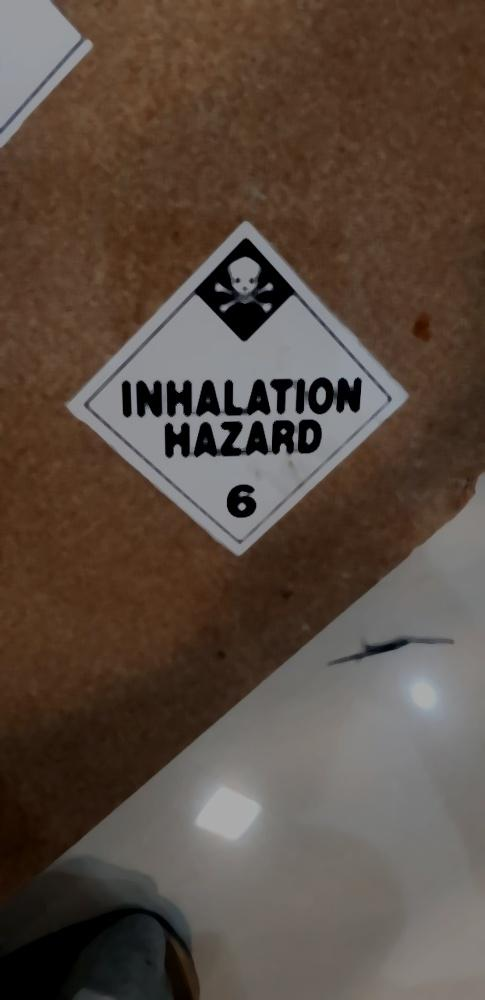poison: (64, 217, 411, 558)
